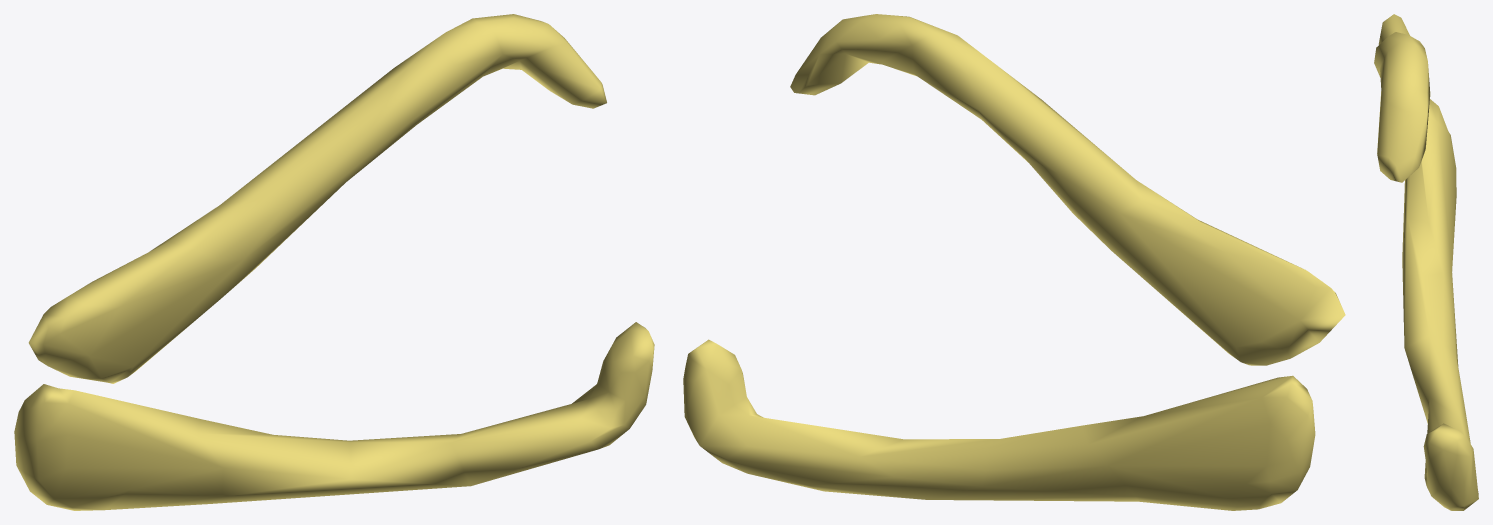
The model's file is lacrimal-canaliculus-l.glb.
The picture shows the model from 3 angles, left to right: view 1: azimuth 30°, elevation 25°; view 2: azimuth 150°, elevation 25°; view 3: azimuth 270°, elevation 25°; orthographic projection. The views are drawn at different scales.
Visible parts, largest first — view 1: Lacrimal canaliculus.l; view 2: Lacrimal canaliculus.l; view 3: Lacrimal canaliculus.l.
Part boxes in pixels (bbox=[...]): Lacrimal canaliculus.l: bbox=[14, 14, 654, 510]; Lacrimal canaliculus.l: bbox=[683, 14, 1345, 510]; Lacrimal canaliculus.l: bbox=[1374, 14, 1478, 510].
Size of the model in its own units: 0.00706 by 0.00501 by 0.00116.
